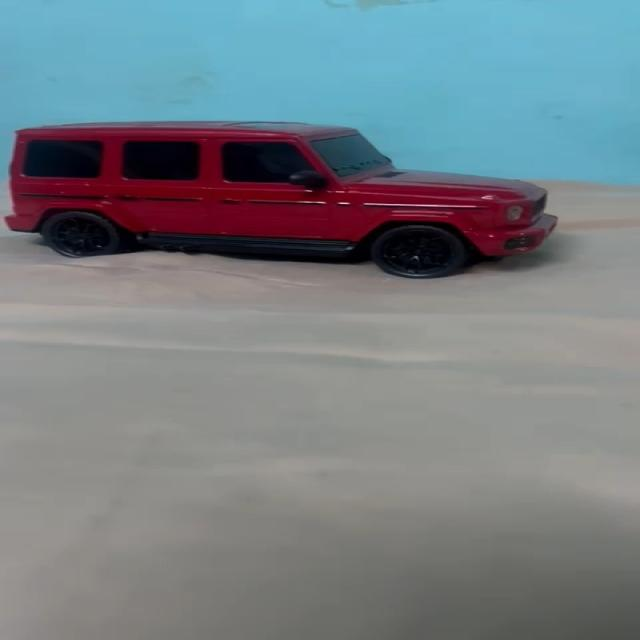light_vehicle: (4, 117, 562, 273)
